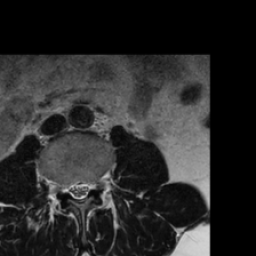CCS_normal: (75, 173, 83, 210)
LFS_normal: (91, 171, 100, 198)
LLS_normal: (83, 174, 91, 203)
RFS_normal: (59, 173, 67, 202)
RLS_normal: (67, 176, 75, 202)
